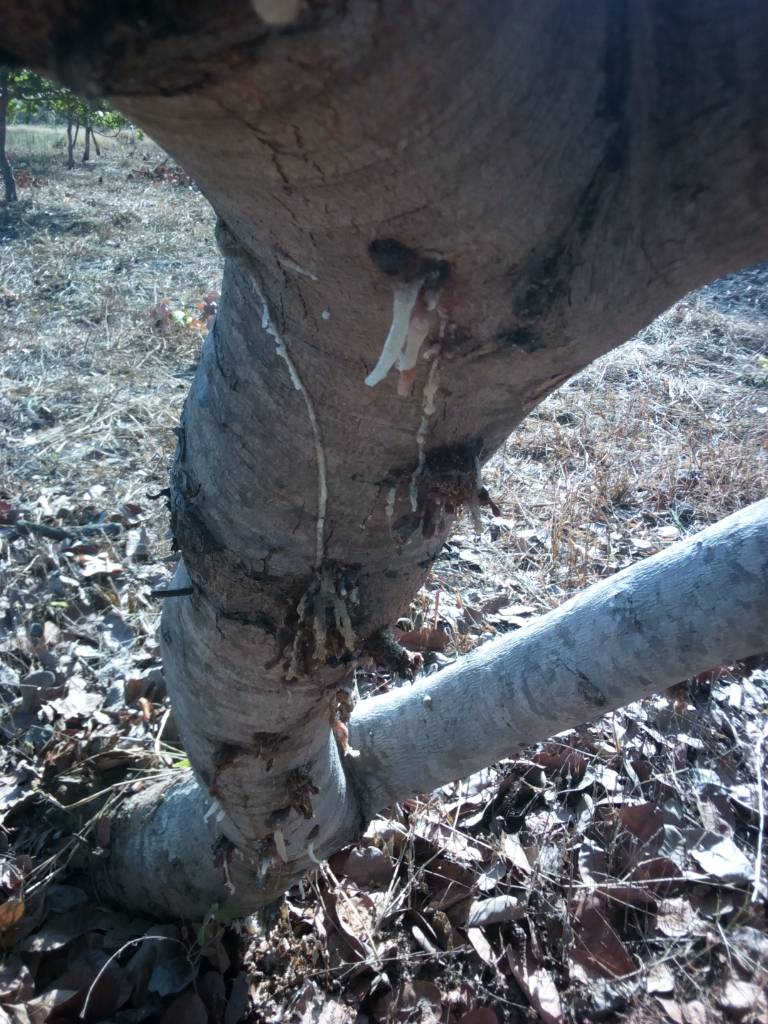Apate terebrans: (316, 205, 530, 538)
